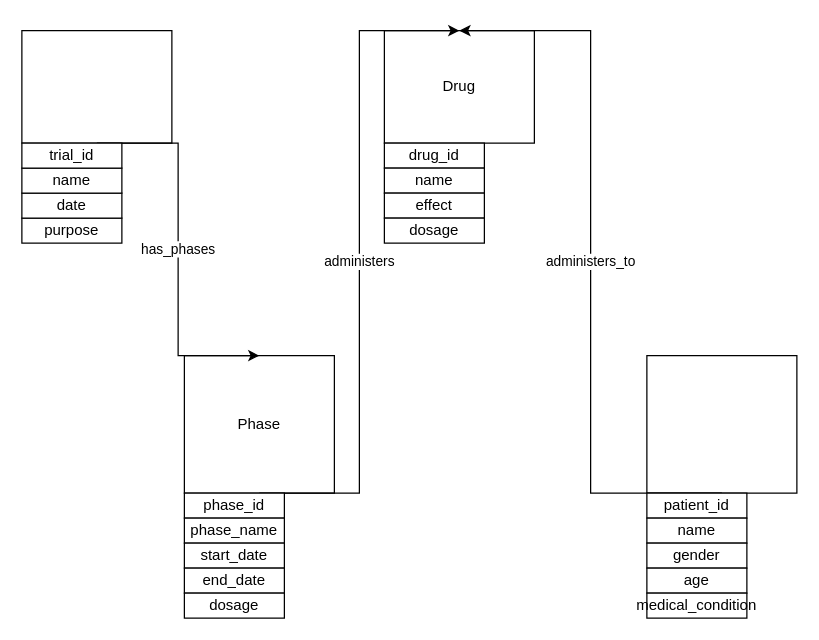
The diagram is 819 pixels wide and 640 high, and some of its shapes have lost their labels. The centre of each missing label's shape, as x and y in pixels:
"Clinical Trial" belongs at pixel 96 86.
"Patient" belongs at pixel 721 423.
